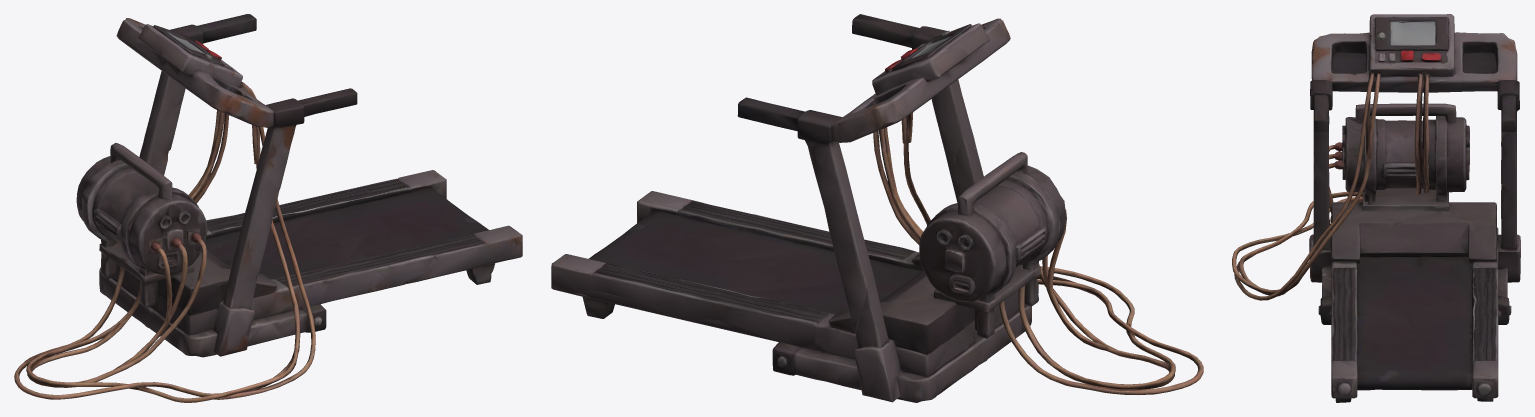
Rendered from treadmill_generator_begovaya_dorozhka_idle.glb.
3 views of the same model, side by side, from view 1: azimuth 30°, elevation 25°; view 2: azimuth 150°, elevation 25°; view 3: azimuth 270°, elevation 25° (orthographic). The views are drawn at different scales.
Parts seen in each view (by area): view 1: tripo_node_2e3bce8f-92a1-48bf-8d9d-1ca5c234f0e0; view 2: tripo_node_2e3bce8f-92a1-48bf-8d9d-1ca5c234f0e0; view 3: tripo_node_2e3bce8f-92a1-48bf-8d9d-1ca5c234f0e0.
Boxes of the visible parts, box(x1,y1,x2,y2) form: tripo_node_2e3bce8f-92a1-48bf-8d9d-1ca5c234f0e0: box(14, 14, 522, 402); tripo_node_2e3bce8f-92a1-48bf-8d9d-1ca5c234f0e0: box(551, 14, 1203, 402); tripo_node_2e3bce8f-92a1-48bf-8d9d-1ca5c234f0e0: box(1232, 14, 1520, 402).
Bounding box in the file's own units: 2.19 × 1.2 × 1.19.
Materials: 1 (1 with a texture image).
